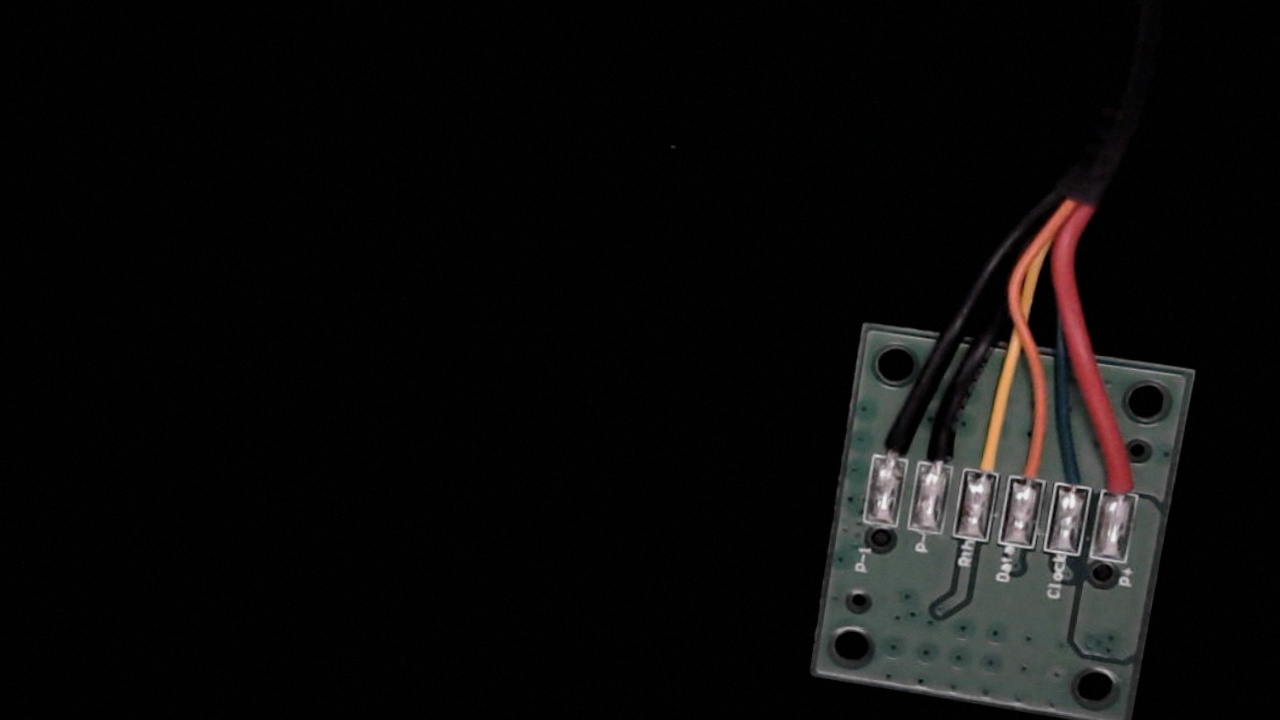Black: (912, 408, 965, 494)
Black1: (869, 406, 919, 485)
Green: (1048, 433, 1100, 516)
Orange: (1005, 423, 1056, 507)
Red: (1096, 441, 1150, 524)
Yellow: (958, 414, 1012, 501)
